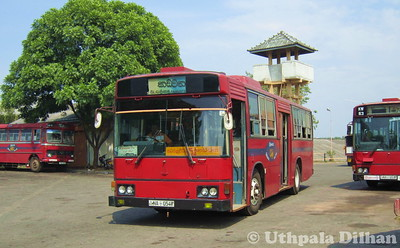bus: (107, 69, 313, 216), (347, 99, 400, 188), (1, 121, 76, 172)
